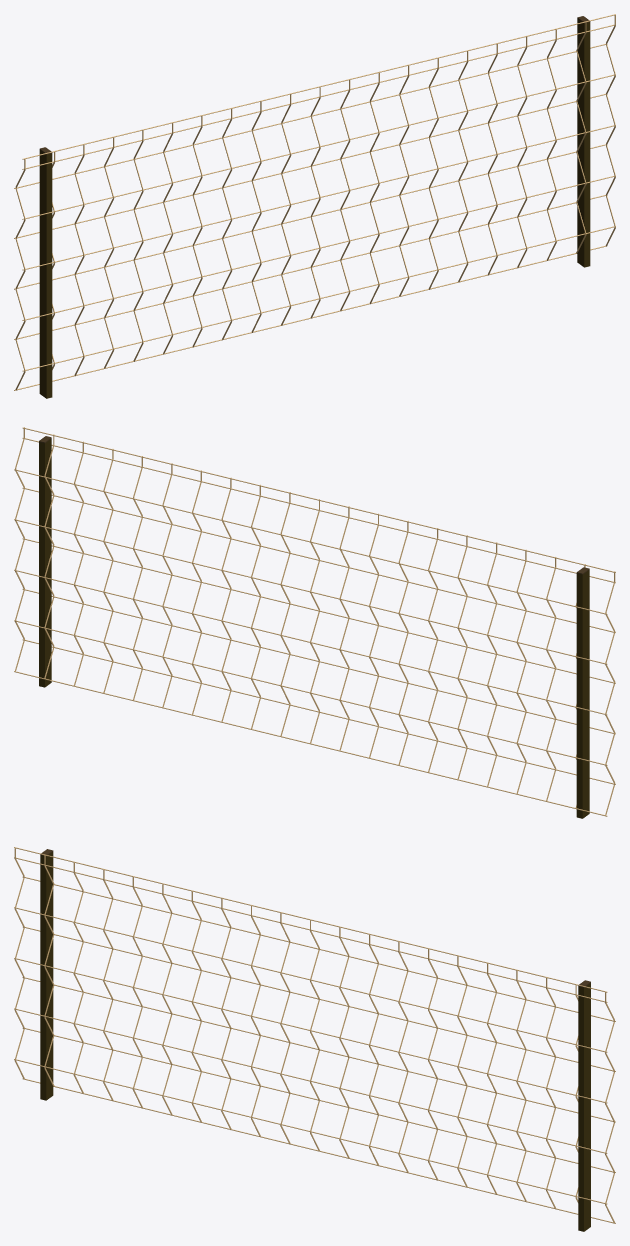
Rendered from toremeshsingle_h800_softbeige.fbx.
3 views of the same model, one above another, from view 1: azimuth 30°, elevation 25°; view 2: azimuth 150°, elevation 25°; view 3: azimuth 330°, elevation 25° (orthographic).
Visible parts, largest first — view 1: toremeshsingle_h800_yellow; view 2: toremeshsingle_h800_yellow; view 3: toremeshsingle_h800_yellow.
Part boxes in pixels (box(x1,y1,x2,y2)): toremeshsingle_h800_yellow: box(14, 14, 615, 398); toremeshsingle_h800_yellow: box(14, 427, 615, 818); toremeshsingle_h800_yellow: box(14, 847, 615, 1231).
Size of the model in its own units: 199 by 79.15 by 5.67.
3 materials, 2 textured.
